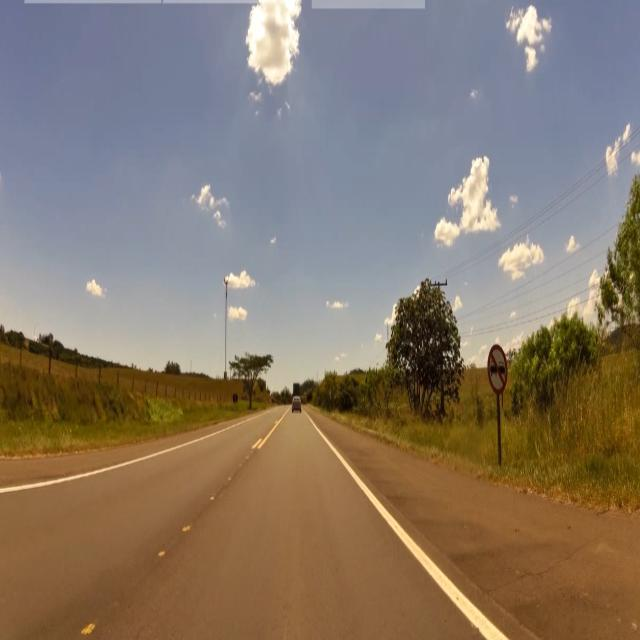R-7: (486, 341, 508, 398)
